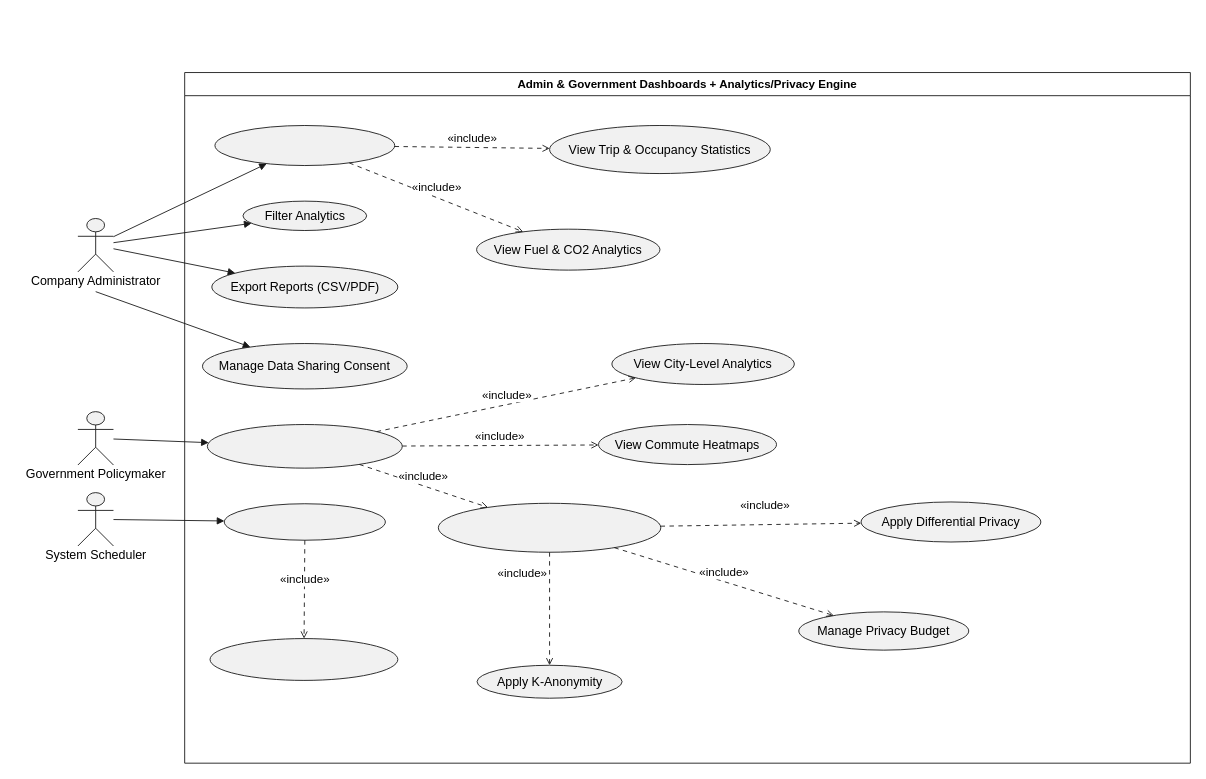
Image size: 1206x779. Some labels were removed from this diagram. Here are the shapes that lost their labels. From the top down, the box of each, then its label:
(214, 125, 395, 166): View Company Dashboard
(206, 424, 402, 468): View Government Dashboard
(223, 503, 385, 540): Refresh Analytics Data
(437, 502, 661, 552): Generate Privacy-Protected Data
(209, 638, 398, 680): Aggregate Commuting Data
